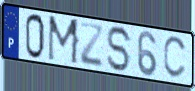0: (24, 12, 47, 60)
6: (136, 29, 159, 79)
C: (162, 36, 188, 81)
M: (46, 14, 81, 67)
S: (106, 25, 134, 74)
Z: (79, 21, 105, 70)
